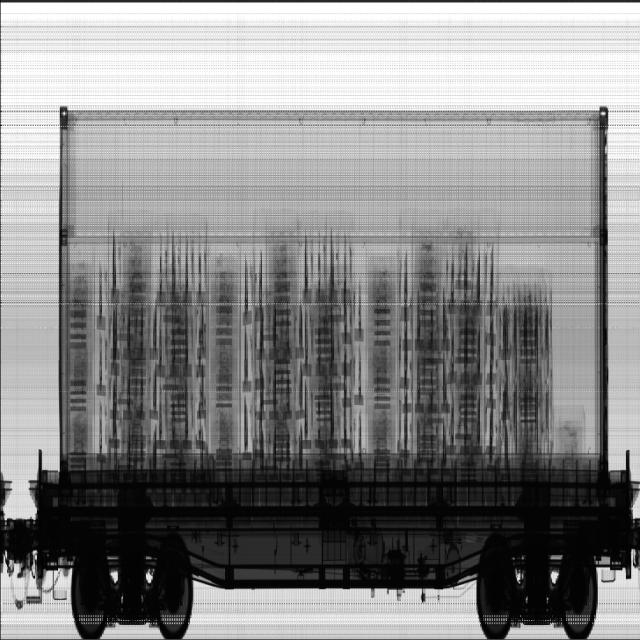spare parts: (63, 215, 552, 473)
